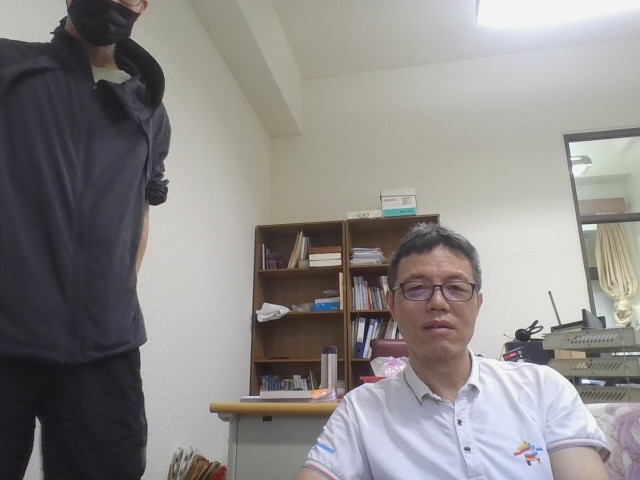No_Helmet: (381, 217, 487, 365), (60, 0, 153, 62)
person: (258, 201, 631, 480), (0, 1, 206, 480)
